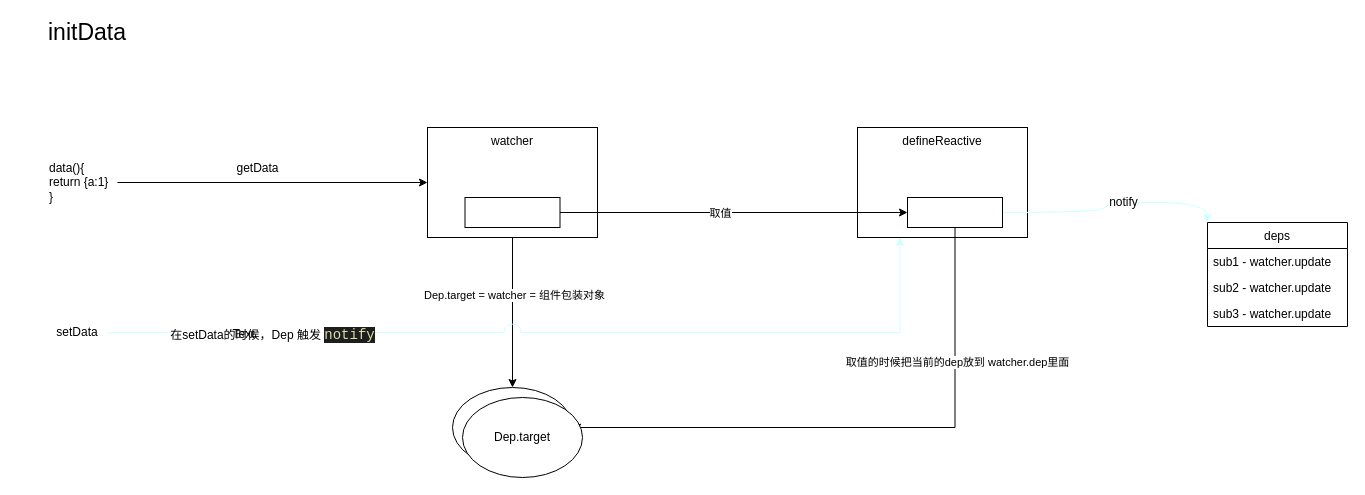
The diagram is 1365 pixels wide and 495 high, and some of its shapes have lost their labels. The centre of each missing label's shape, as x and y in pixels:
"dep" belongs at (x=954, y=212).
"vm" belongs at (x=512, y=212).
